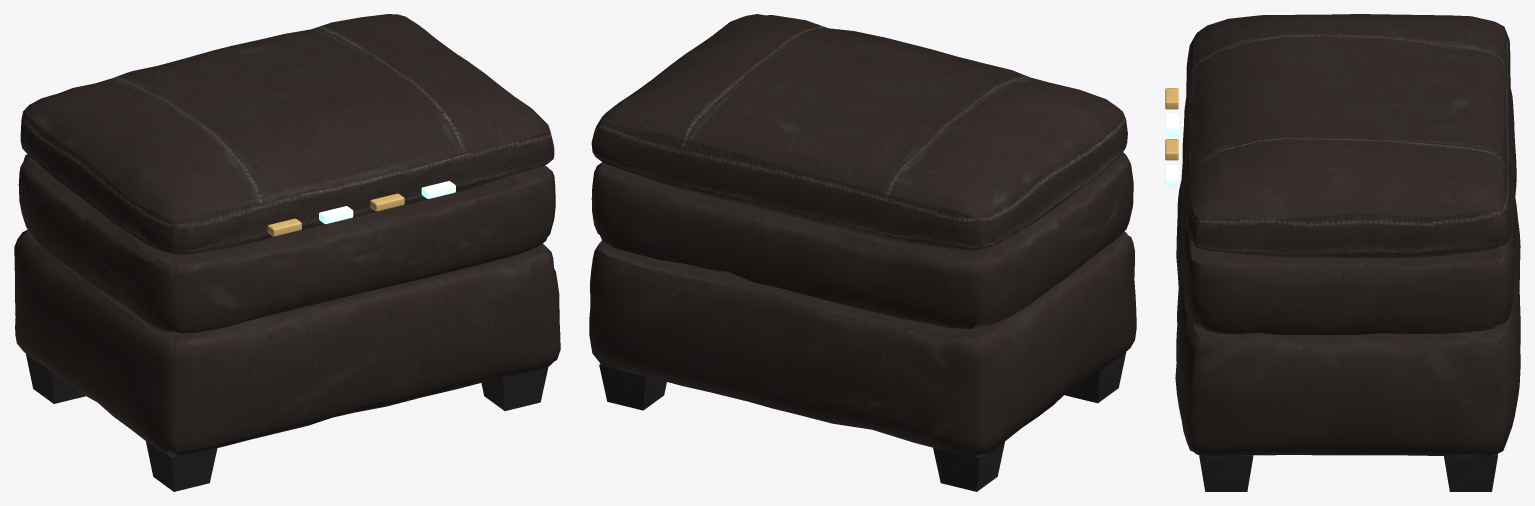
Rendered from hp_l2_cc0_ottoman_polyhaven_v1.glb.
3 views of the same model, side by side, from view 1: azimuth 30°, elevation 25°; view 2: azimuth 150°, elevation 25°; view 3: azimuth 270°, elevation 25° (orthographic).
Visible parts, largest first — view 1: cc0_source_Ottoman_01, hp_ottoman_edge_tick_0, hp_ottoman_edge_tick_1; view 2: cc0_source_Ottoman_01; view 3: cc0_source_Ottoman_01, hp_ottoman_edge_tick_1, hp_ottoman_edge_tick_0.
Part boxes in pixels (x1,y1,x2,y2): cc0_source_Ottoman_01: [14, 14, 560, 491]; hp_ottoman_edge_tick_0: [267, 193, 404, 236]; hp_ottoman_edge_tick_1: [319, 181, 455, 224]; cc0_source_Ottoman_01: [589, 14, 1136, 491]; cc0_source_Ottoman_01: [1175, 14, 1520, 491]; hp_ottoman_edge_tick_1: [1165, 113, 1178, 185]; hp_ottoman_edge_tick_0: [1165, 88, 1178, 160].
Bounding box in the file's own units: 0.6517 × 0.46 × 0.4712.
3 materials, 1 textured.
